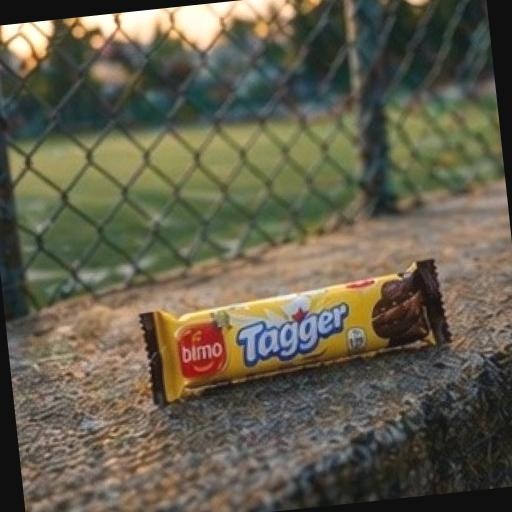tagger: (125, 227, 512, 474)
